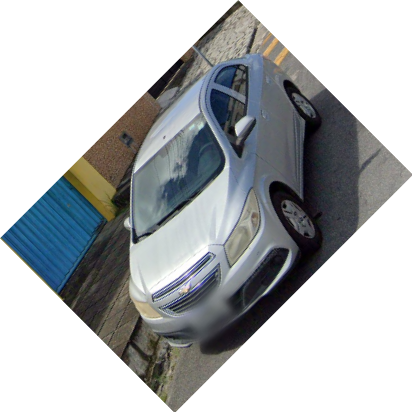car: (127, 52, 321, 352)
